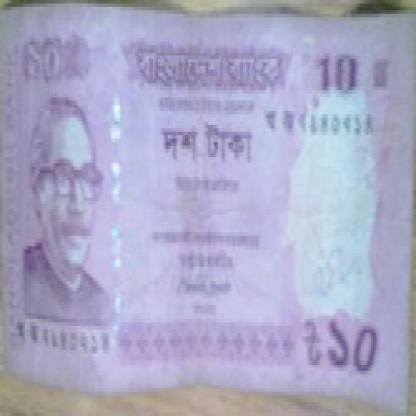Ten Taka: (326, 301, 393, 384), (318, 38, 368, 104), (17, 42, 70, 90)
